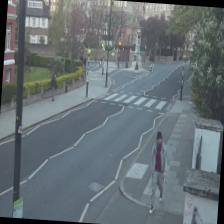person: (148, 130, 170, 215)
